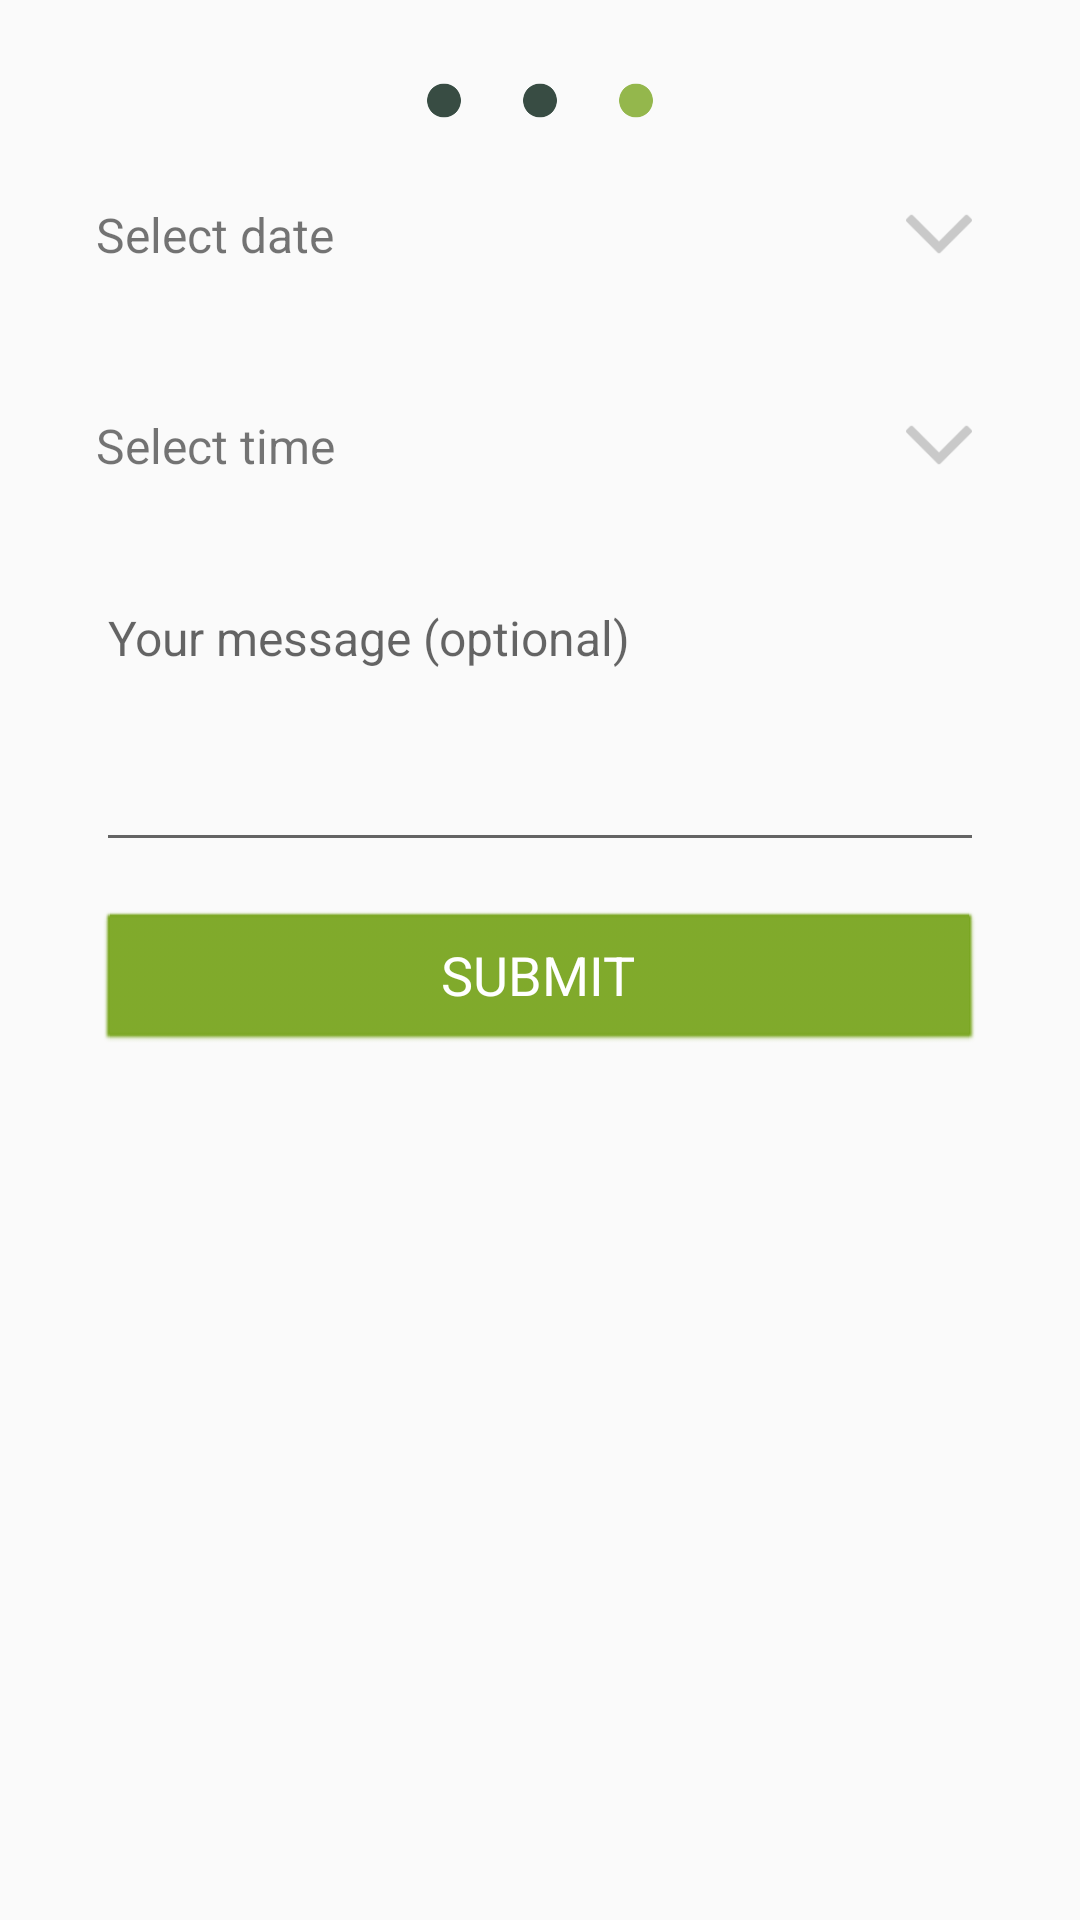

Screen size 1080 × 1920. Icon name, then its center in pixels as (x=x, y=y):
arrow down: (x=939, y=234), (x=939, y=445)
